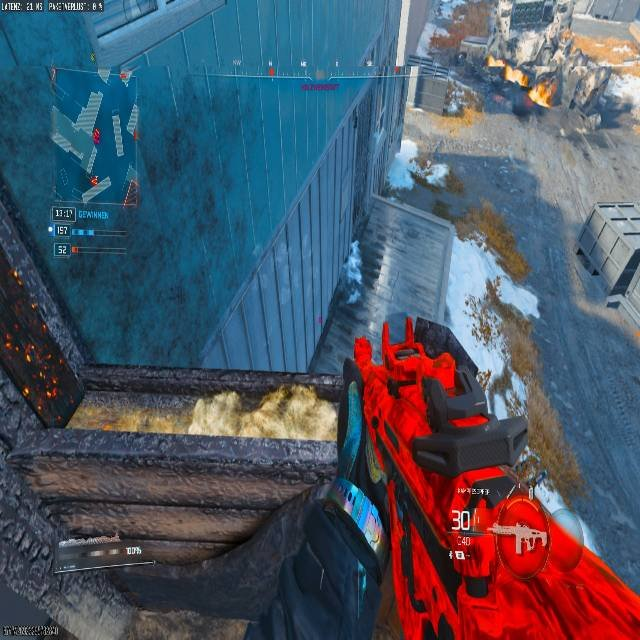head: (402, 112, 442, 164)
player: (441, 80, 464, 113)
